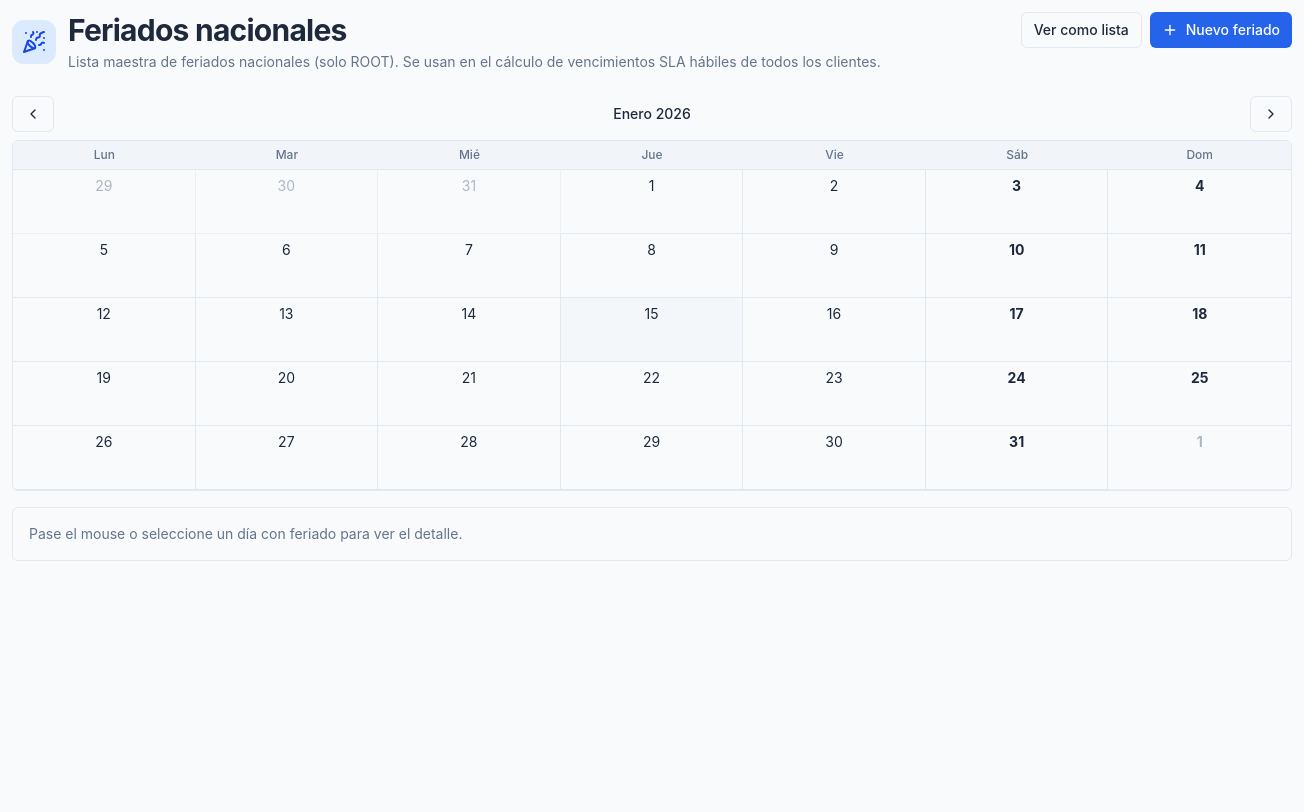
Scenario: FeriadosGlobalesAdminView (sdd/feriados-configurables) › lista vacía muestra el estado vacío, no un error
Click the button "Ver como lista". click: (1081, 30)
box: [1021,12,1142,48]
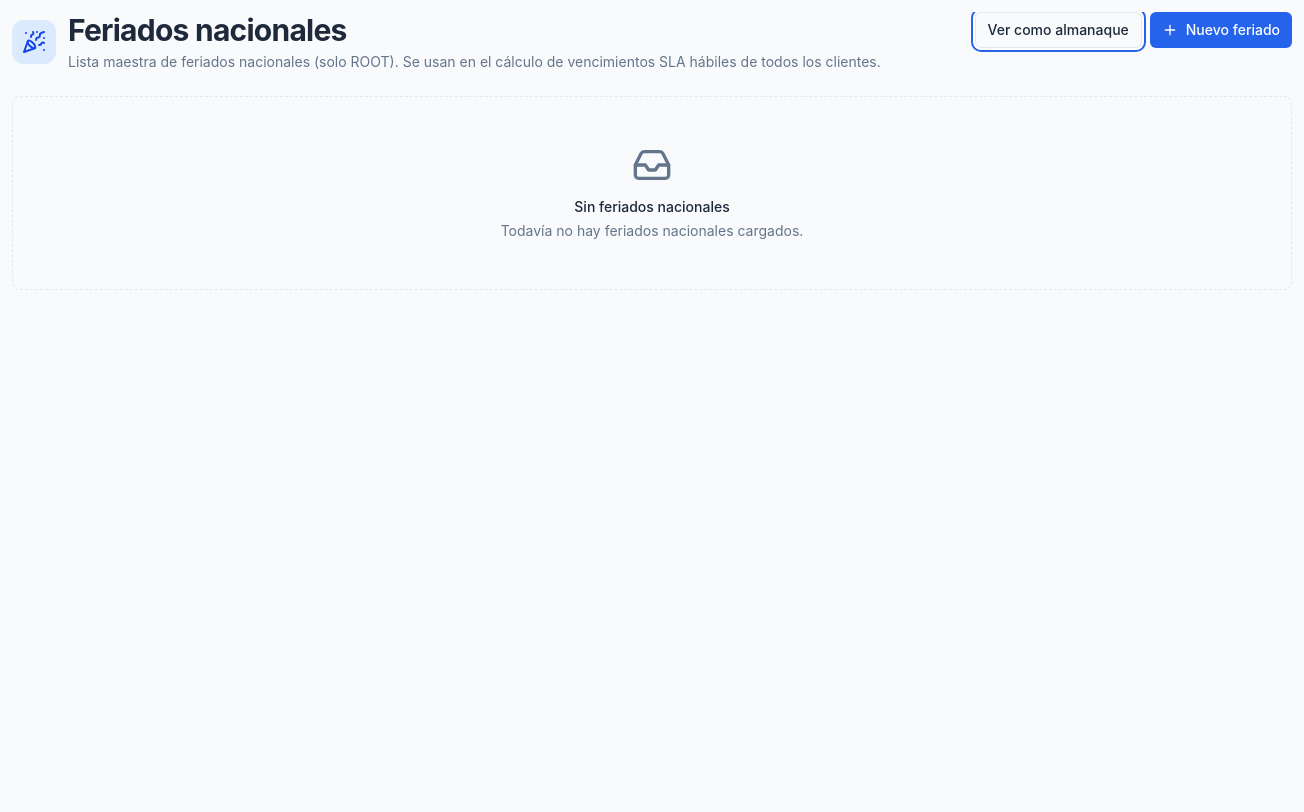
Check: the text "Sin feriados nacionales" is shown, box [574,198,730,215]
